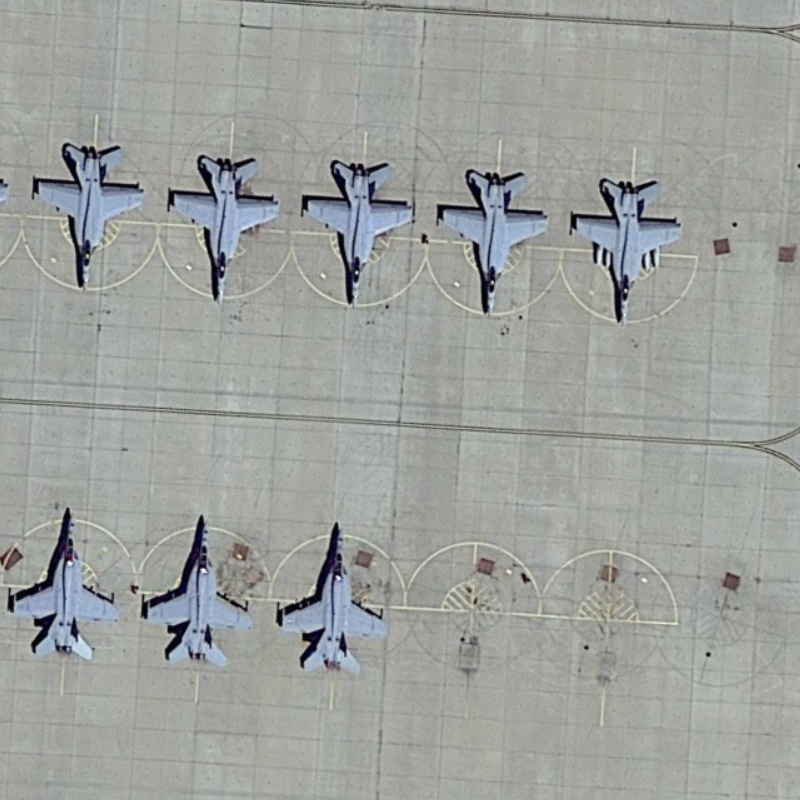A16: (135, 509, 258, 675), (270, 515, 391, 683), (298, 153, 420, 319), (165, 149, 286, 311), (569, 172, 689, 334), (432, 164, 554, 323), (4, 506, 125, 666), (29, 137, 148, 295)
